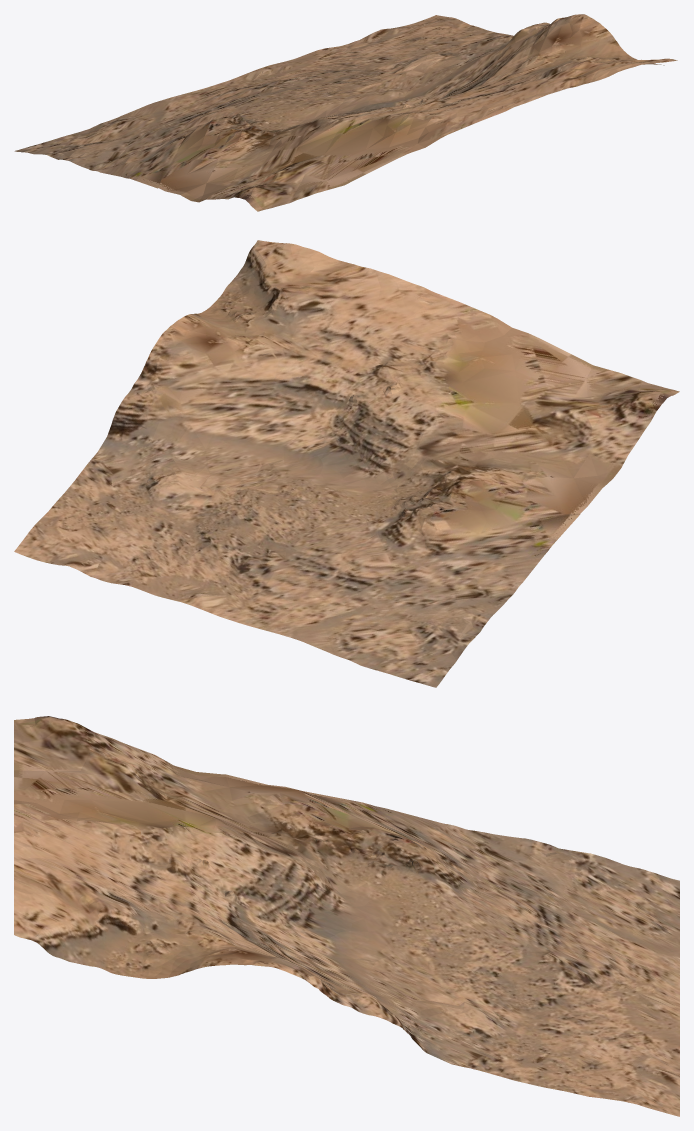
3 renders of one model, top to bottom at view 1: azimuth 30°, elevation 25°; view 2: azimuth 150°, elevation 25°; view 3: azimuth 270°, elevation 25°, orthographic. The views are drawn at different scales.
Bounding box in the file's own units: 4.18 × 1.62 × 4.18.
2 materials, 2 textured.
